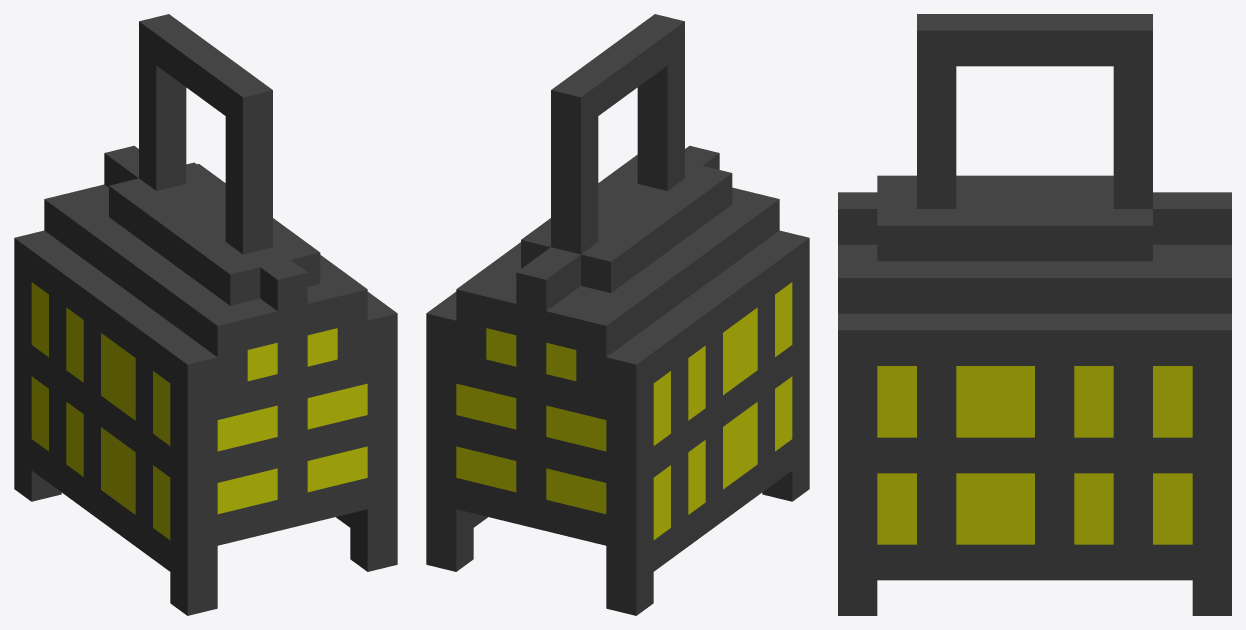
Rendered from Lantern 2-0-Lantern.obj.
3 renders of one model, left to right at view 1: azimuth 30°, elevation 25°; view 2: azimuth 150°, elevation 25°; view 3: azimuth 270°, elevation 25°, orthographic. The views are drawn at different scales.
Parts seen in each view (by area): view 1: Lantern; view 2: Lantern; view 3: Lantern.
Boxes of the visible parts, <box> form: Lantern: <box>14,14,397,615</box>; Lantern: <box>426,14,809,615</box>; Lantern: <box>838,14,1231,615</box>.
Size of the model in its own units: 0.7 by 1.5 by 1.
Materials: 1 (1 with a texture image).
